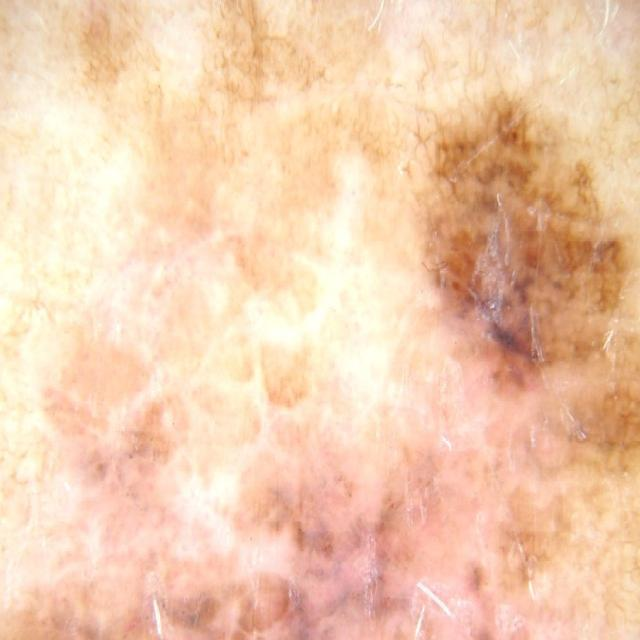Melanoma: (0, 45, 640, 640)
